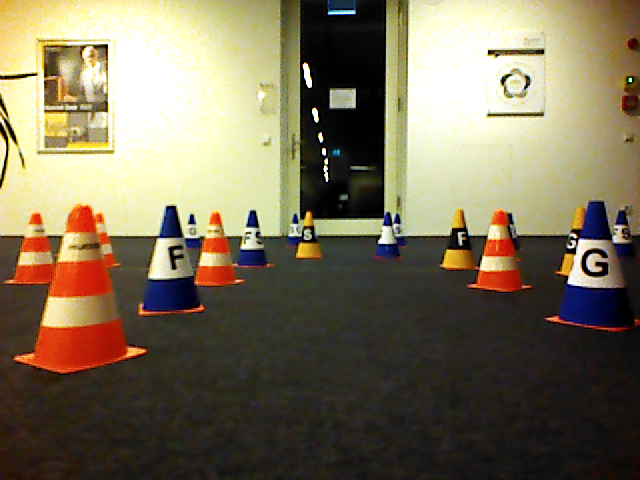bluecone: (573, 200, 640, 332), (136, 204, 206, 316), (375, 213, 402, 261)
orangeconesmall: (469, 210, 532, 295), (195, 210, 243, 287)
